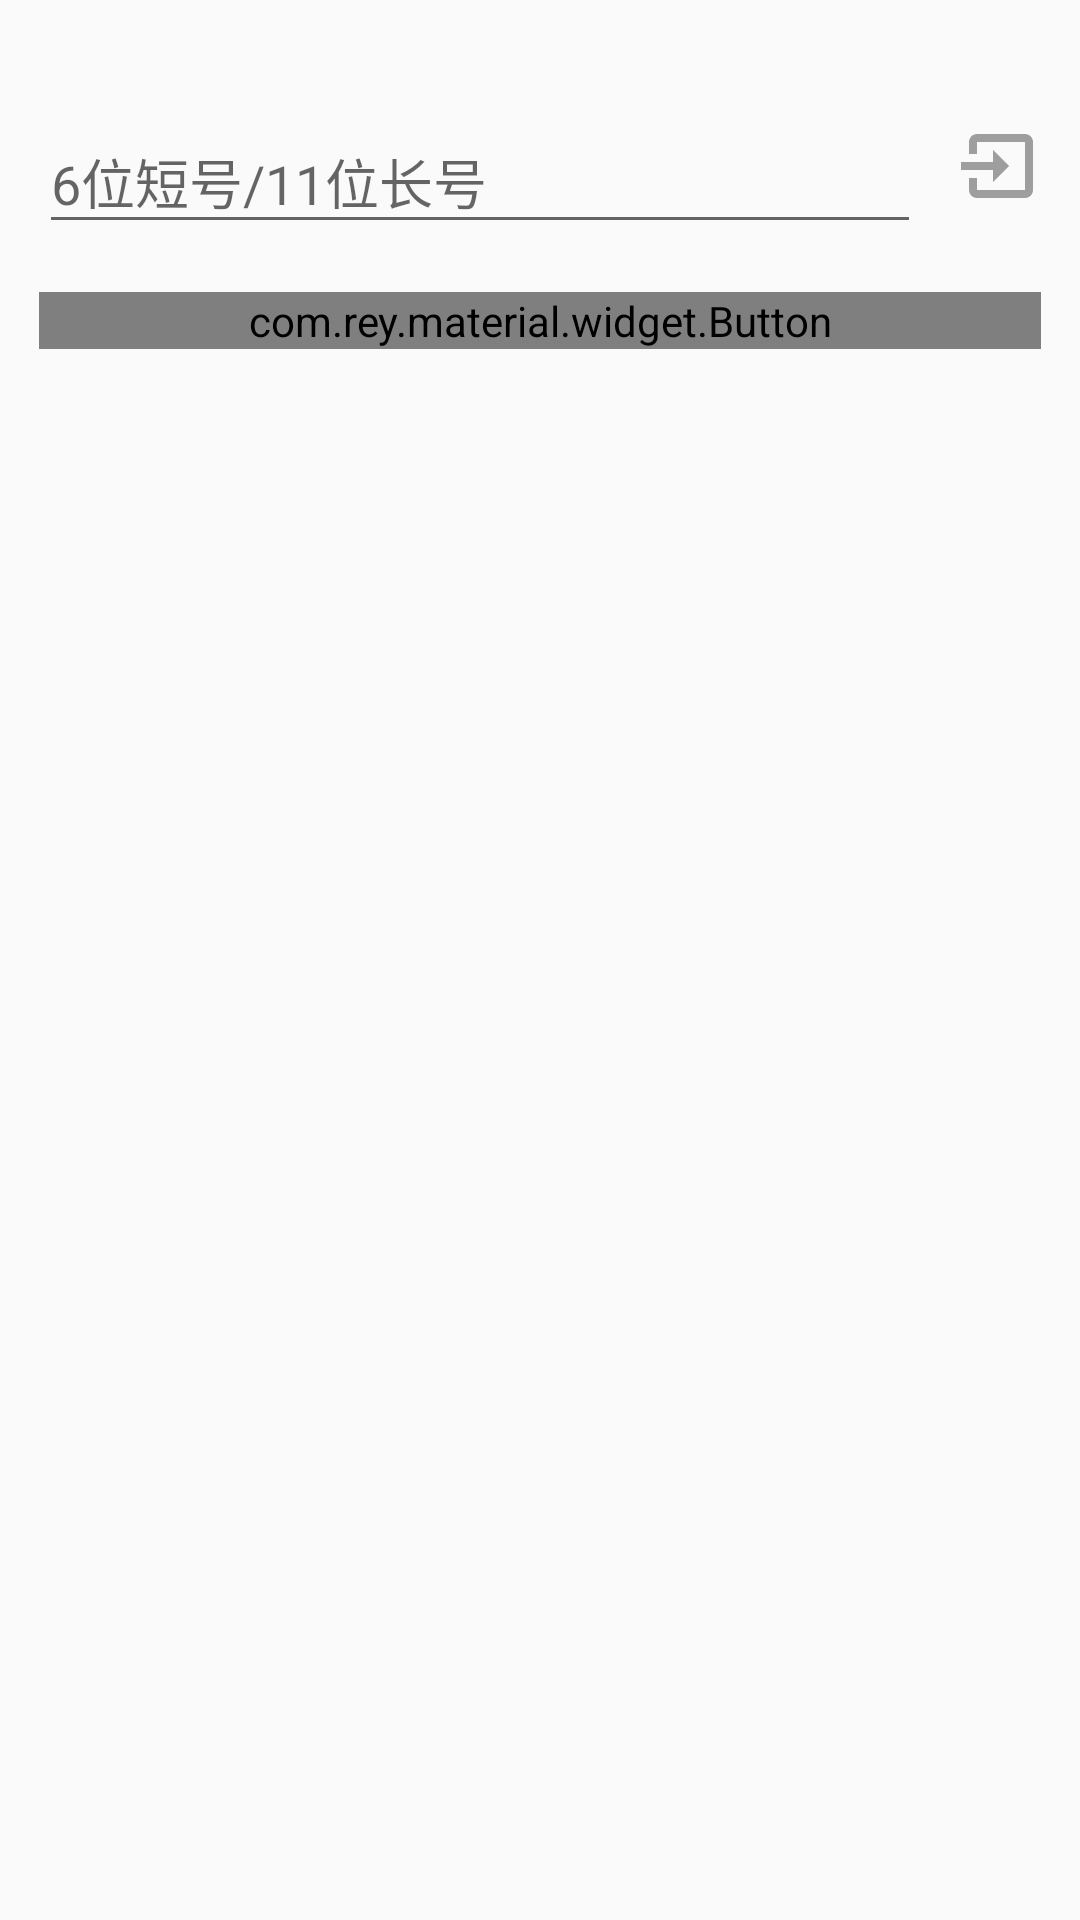

Where to tap for icons on this 1080w x 1920h app screen, as point (x, y):
import: point (997, 166)
